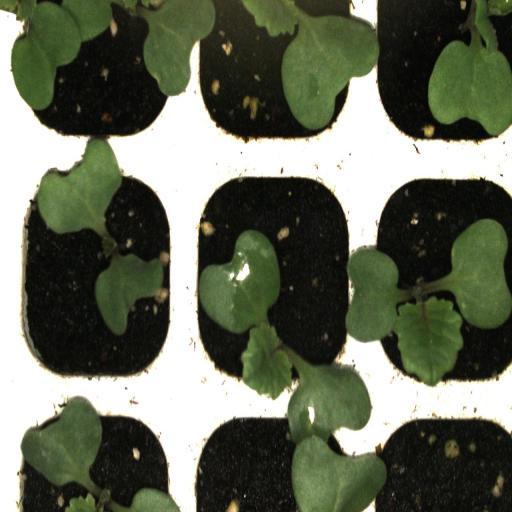seedling: (183, 150, 364, 392), (6, 151, 184, 391), (364, 150, 512, 396)
